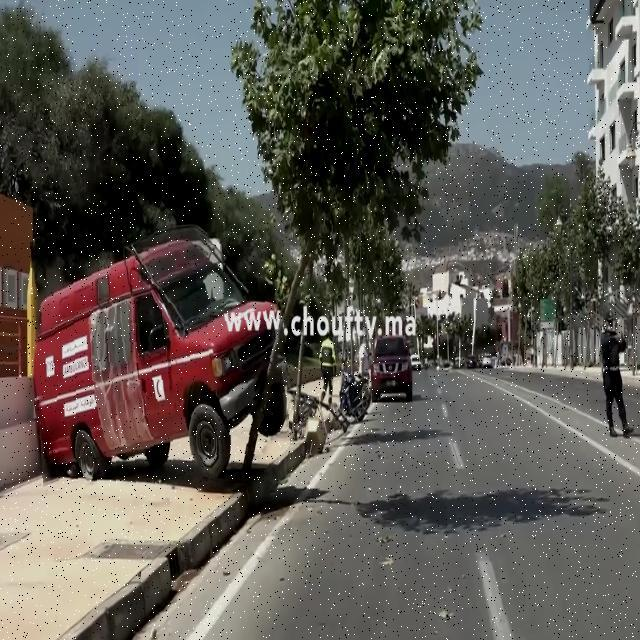ambulance: (33, 232, 288, 488)
